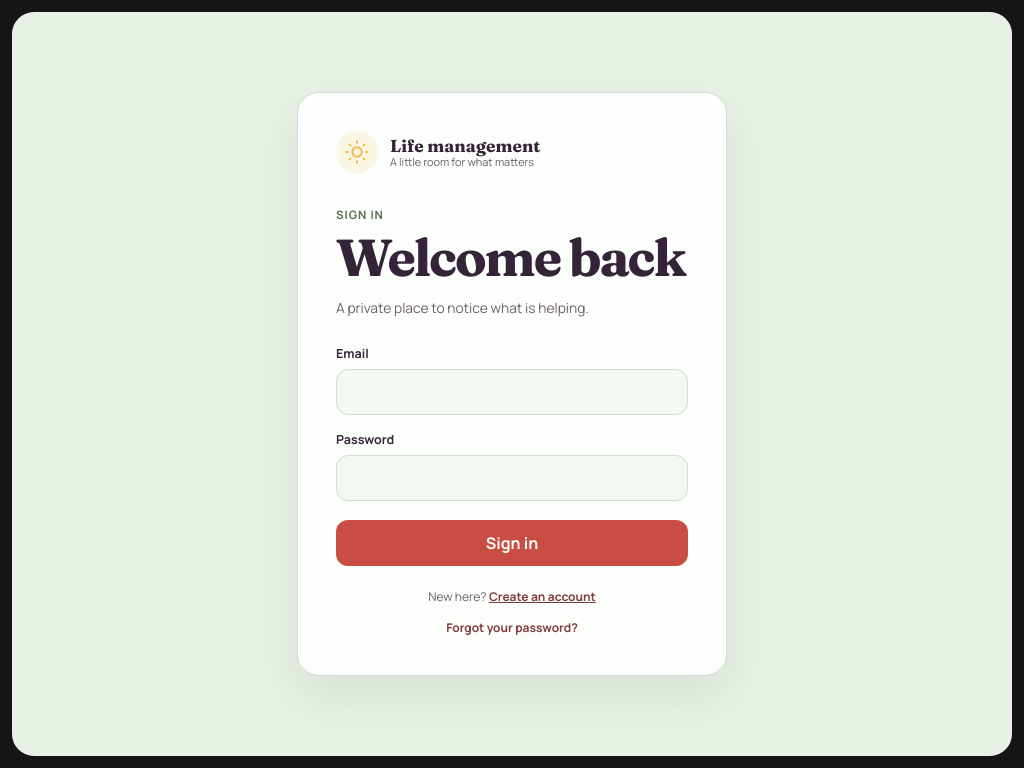
Test case: authentication forms › explains invalid sign-in credentials
This screenshot has width=1024, height=768.
Type "stella@example.test" into the field labelled "Email".
click(512, 392); type("stella@example.test")  # box [336,369,688,415]
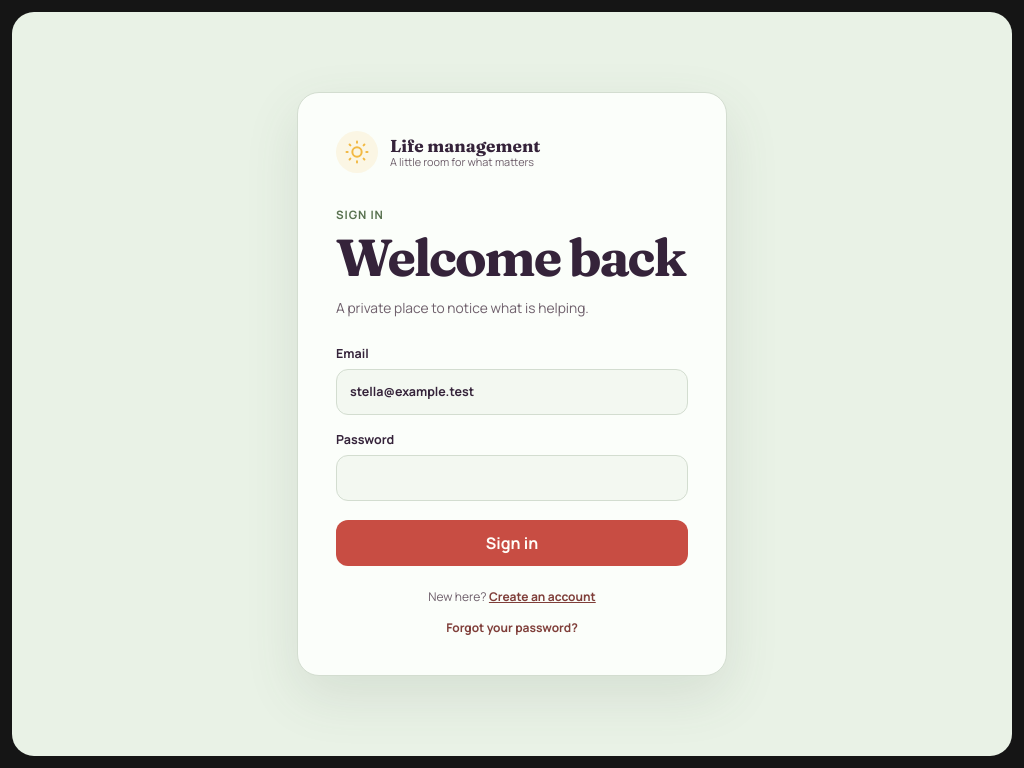
Type "correct horse battery staple" into the password field labelled "Password".
click(512, 478); type("correct horse battery staple")  # box [336,455,688,501]
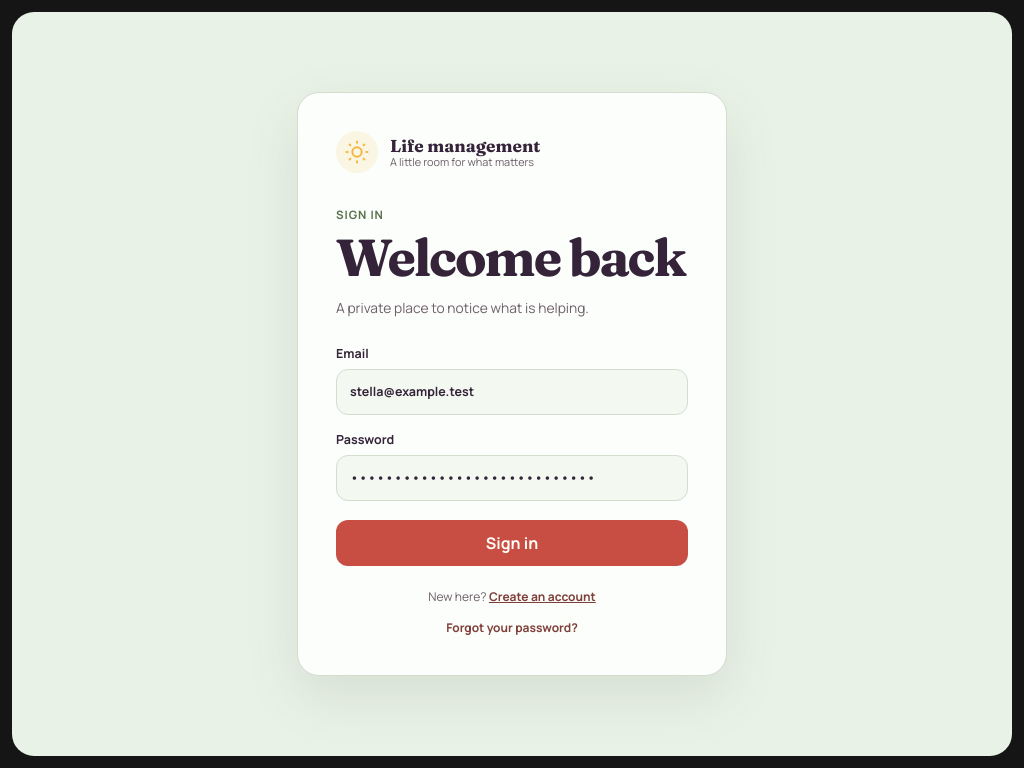
Click the button "Sign in".
click(512, 543)  # box [336,520,688,566]
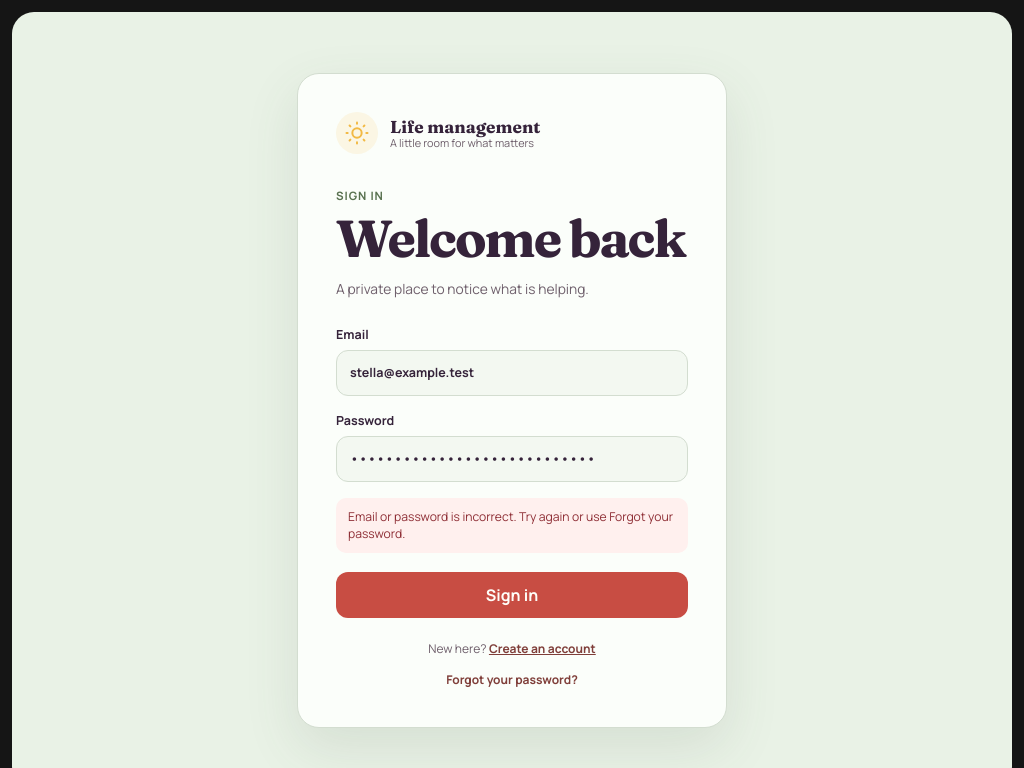
Now the message shows "Email or password is incorrect", box [348,508,673,542]
